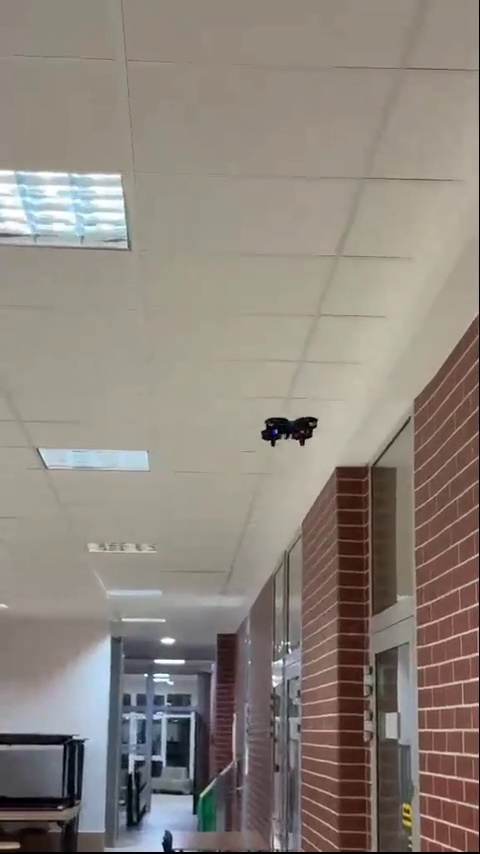drone: (255, 413, 316, 444)
